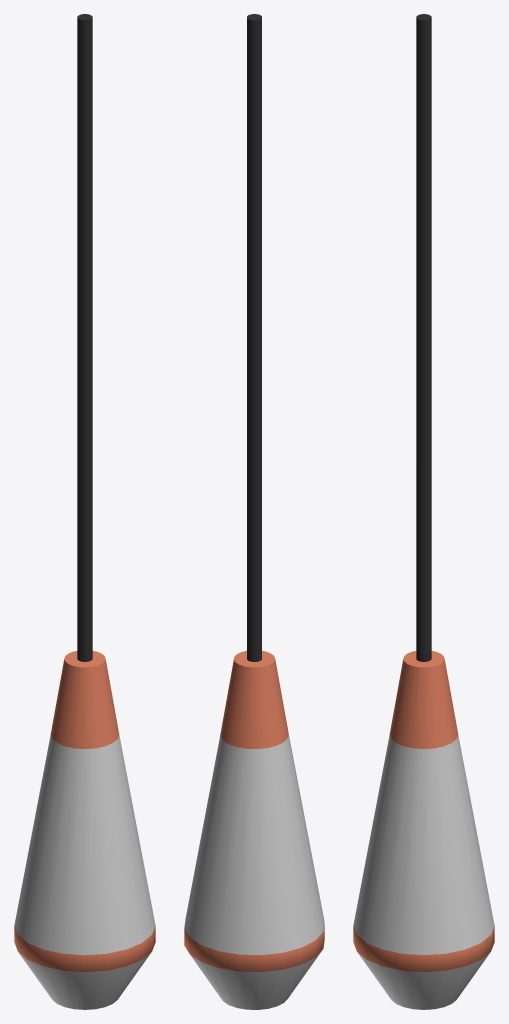
File: LobbyCeilingLight.fbx
The picture shows the model from 3 angles, left to right: view 1: azimuth 90°, elevation 25°; view 2: azimuth 150°, elevation 25°; view 3: azimuth 270°, elevation 25°; orthographic projection.
Parts seen in each view (by area): view 1: CeilingLight; view 2: CeilingLight; view 3: CeilingLight.
Boxes of the visible parts, bbox=[...] form: CeilingLight: bbox=[14, 14, 155, 1009]; CeilingLight: bbox=[184, 14, 324, 1009]; CeilingLight: bbox=[353, 14, 494, 1009].
Size of the model in its own units: 2.87 by 21.97 by 2.87.
